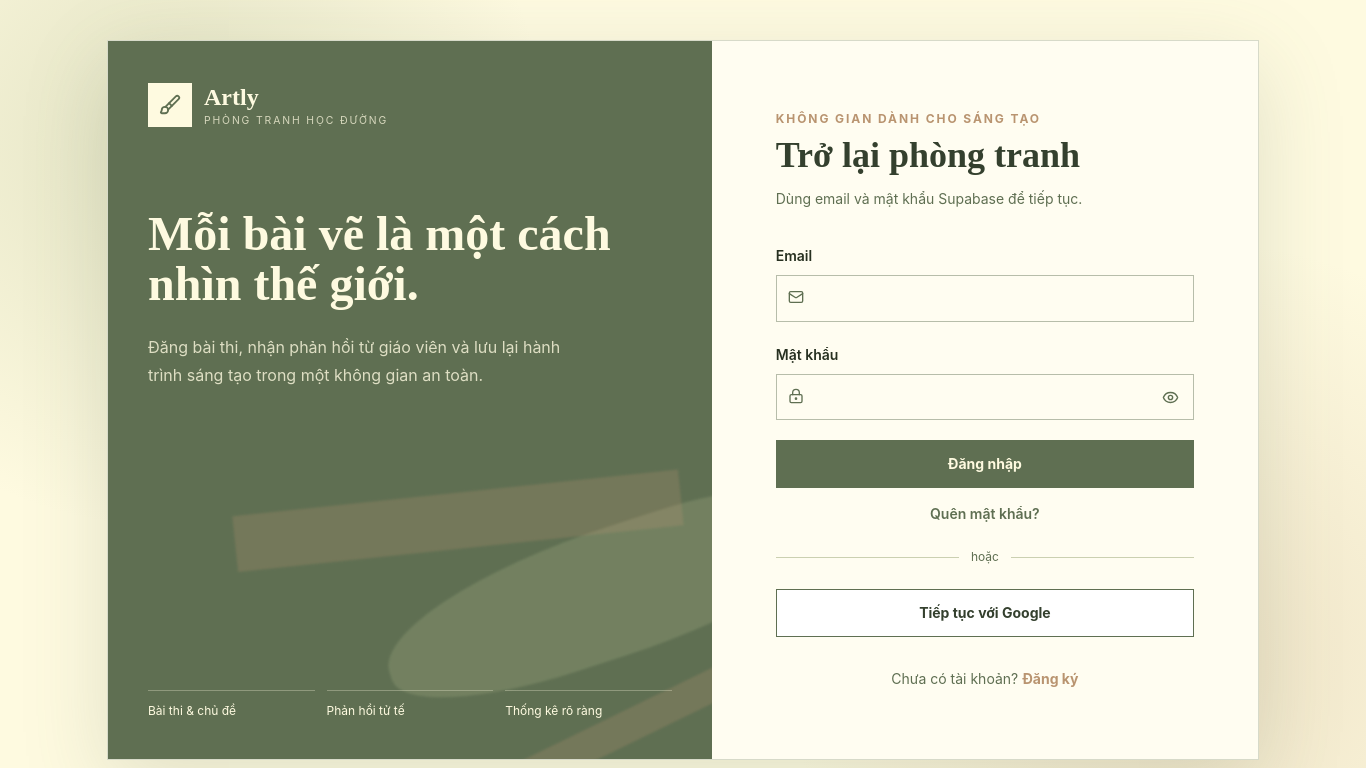
Scenario: AuthGate Google OAuth › hiển thị đúng validation_failed khi Google provider chưa được bật
The image size is (1366, 768).
Click the button "Tiếp tục với Google" at (985, 613), box [776,589,1194,637]
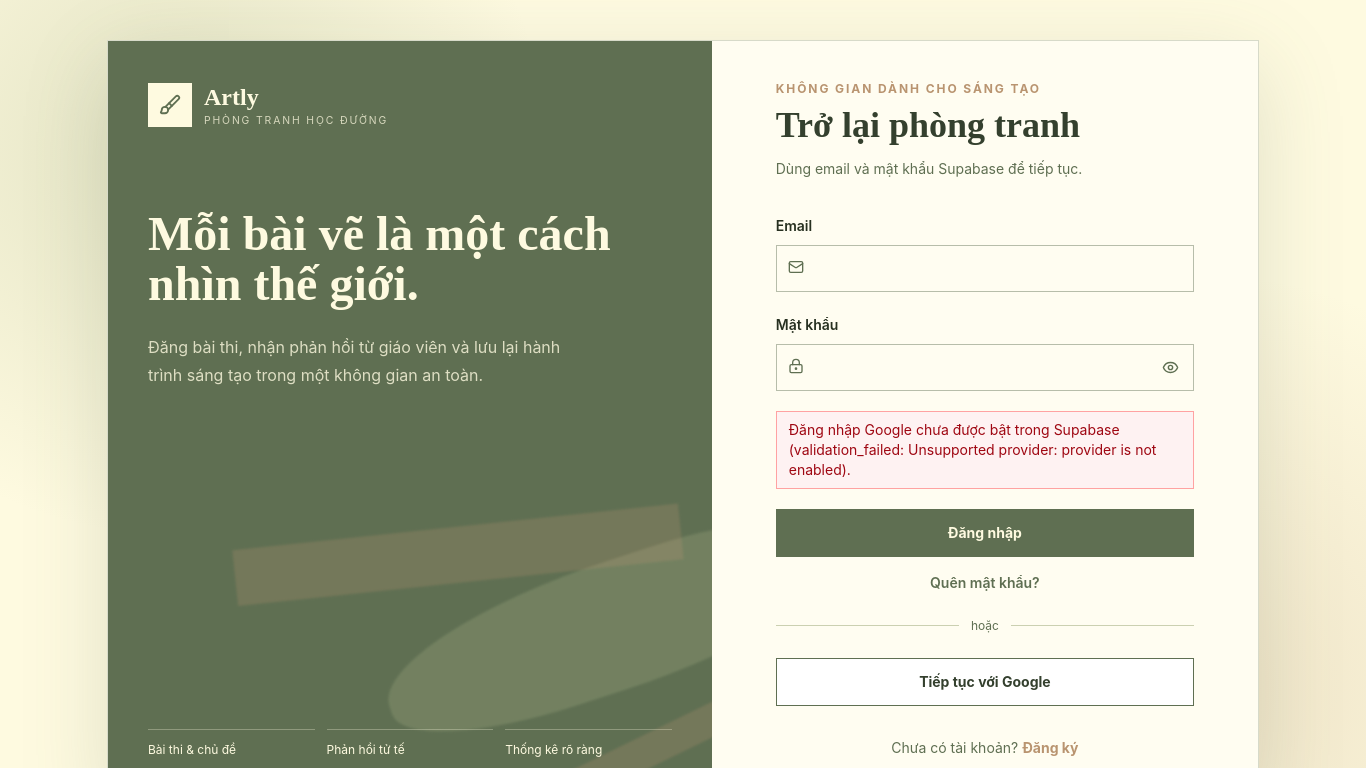
Expected: the button "Tiếp tục với Google" is enabled, [776,658,1194,706]
Expected: the message shows "Đăng nhập Google chưa được bật trong Supabase (validation_failed: Unsupported provider: provider is not enabled).", [789,421,1156,478]
